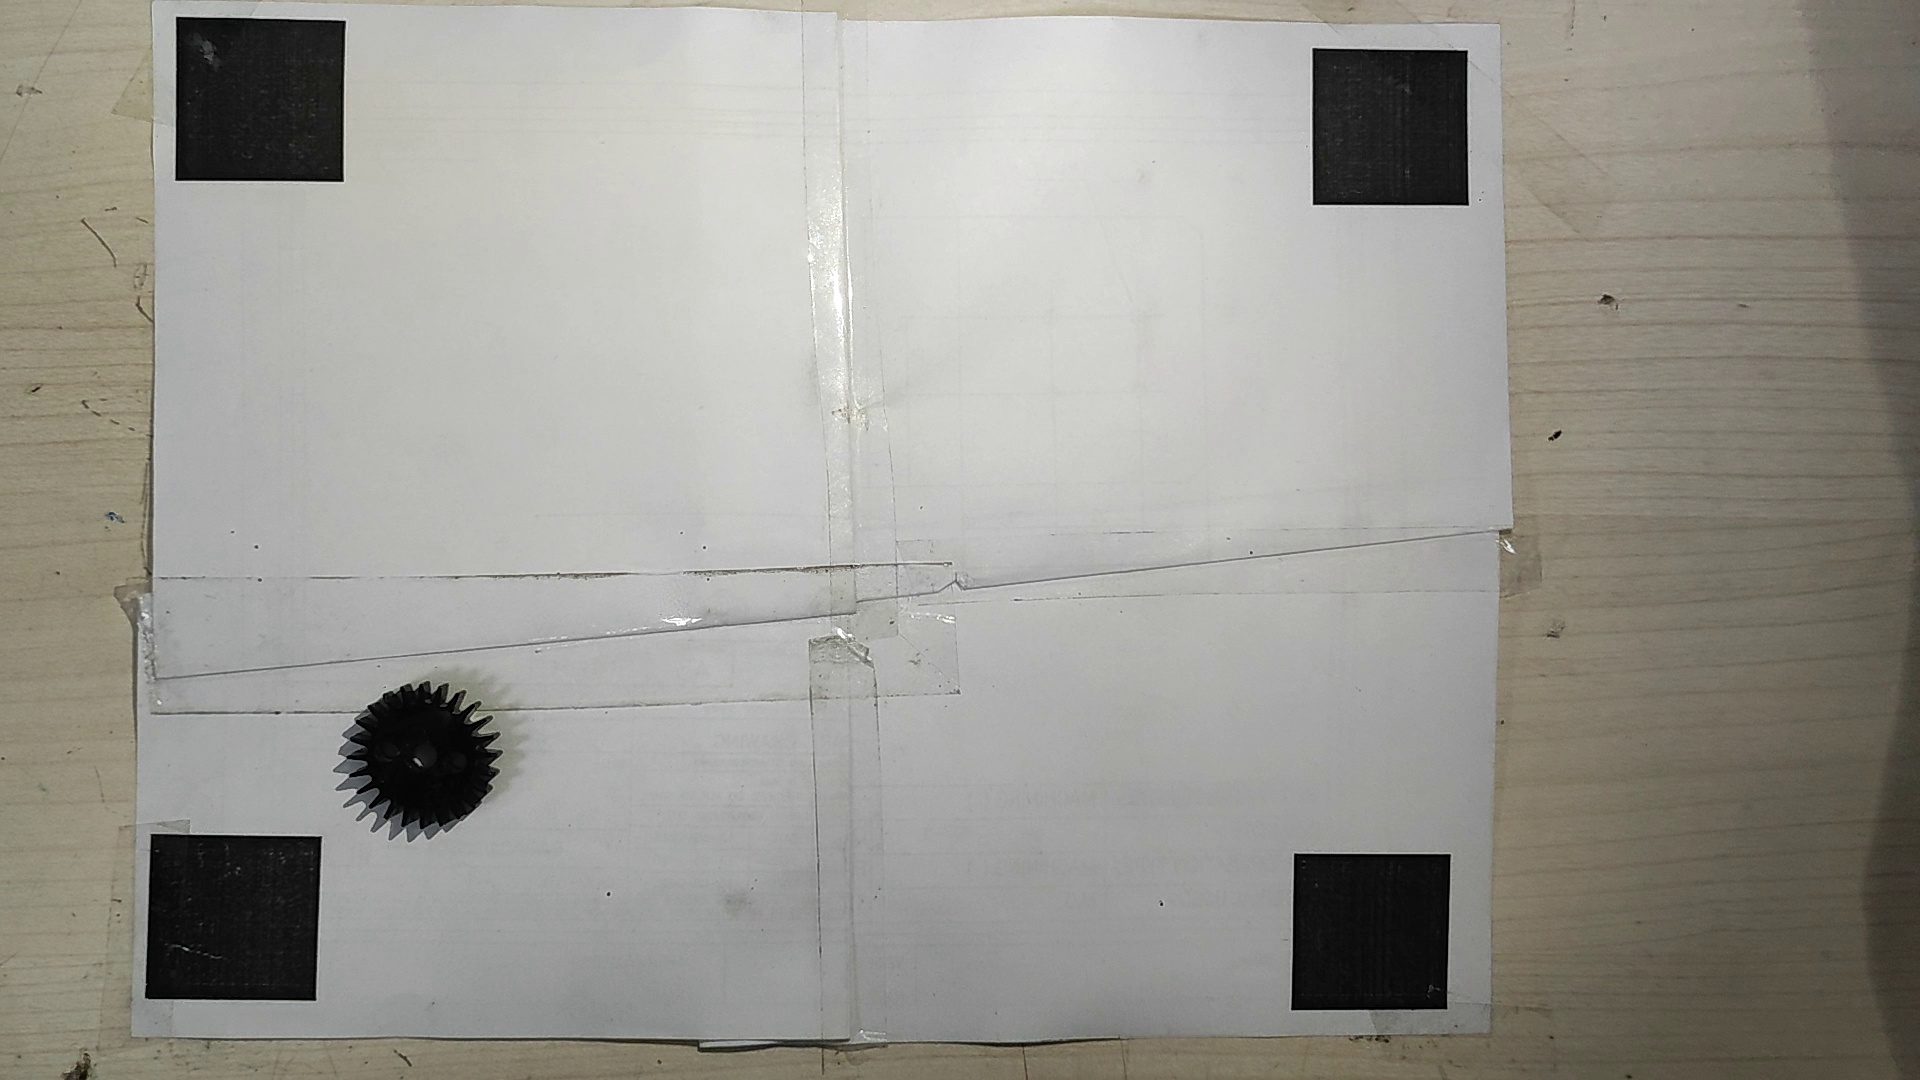Gear: (343, 678, 508, 835)
